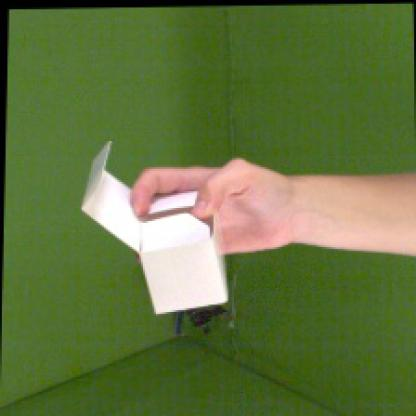Hand: (129, 158, 295, 256)
